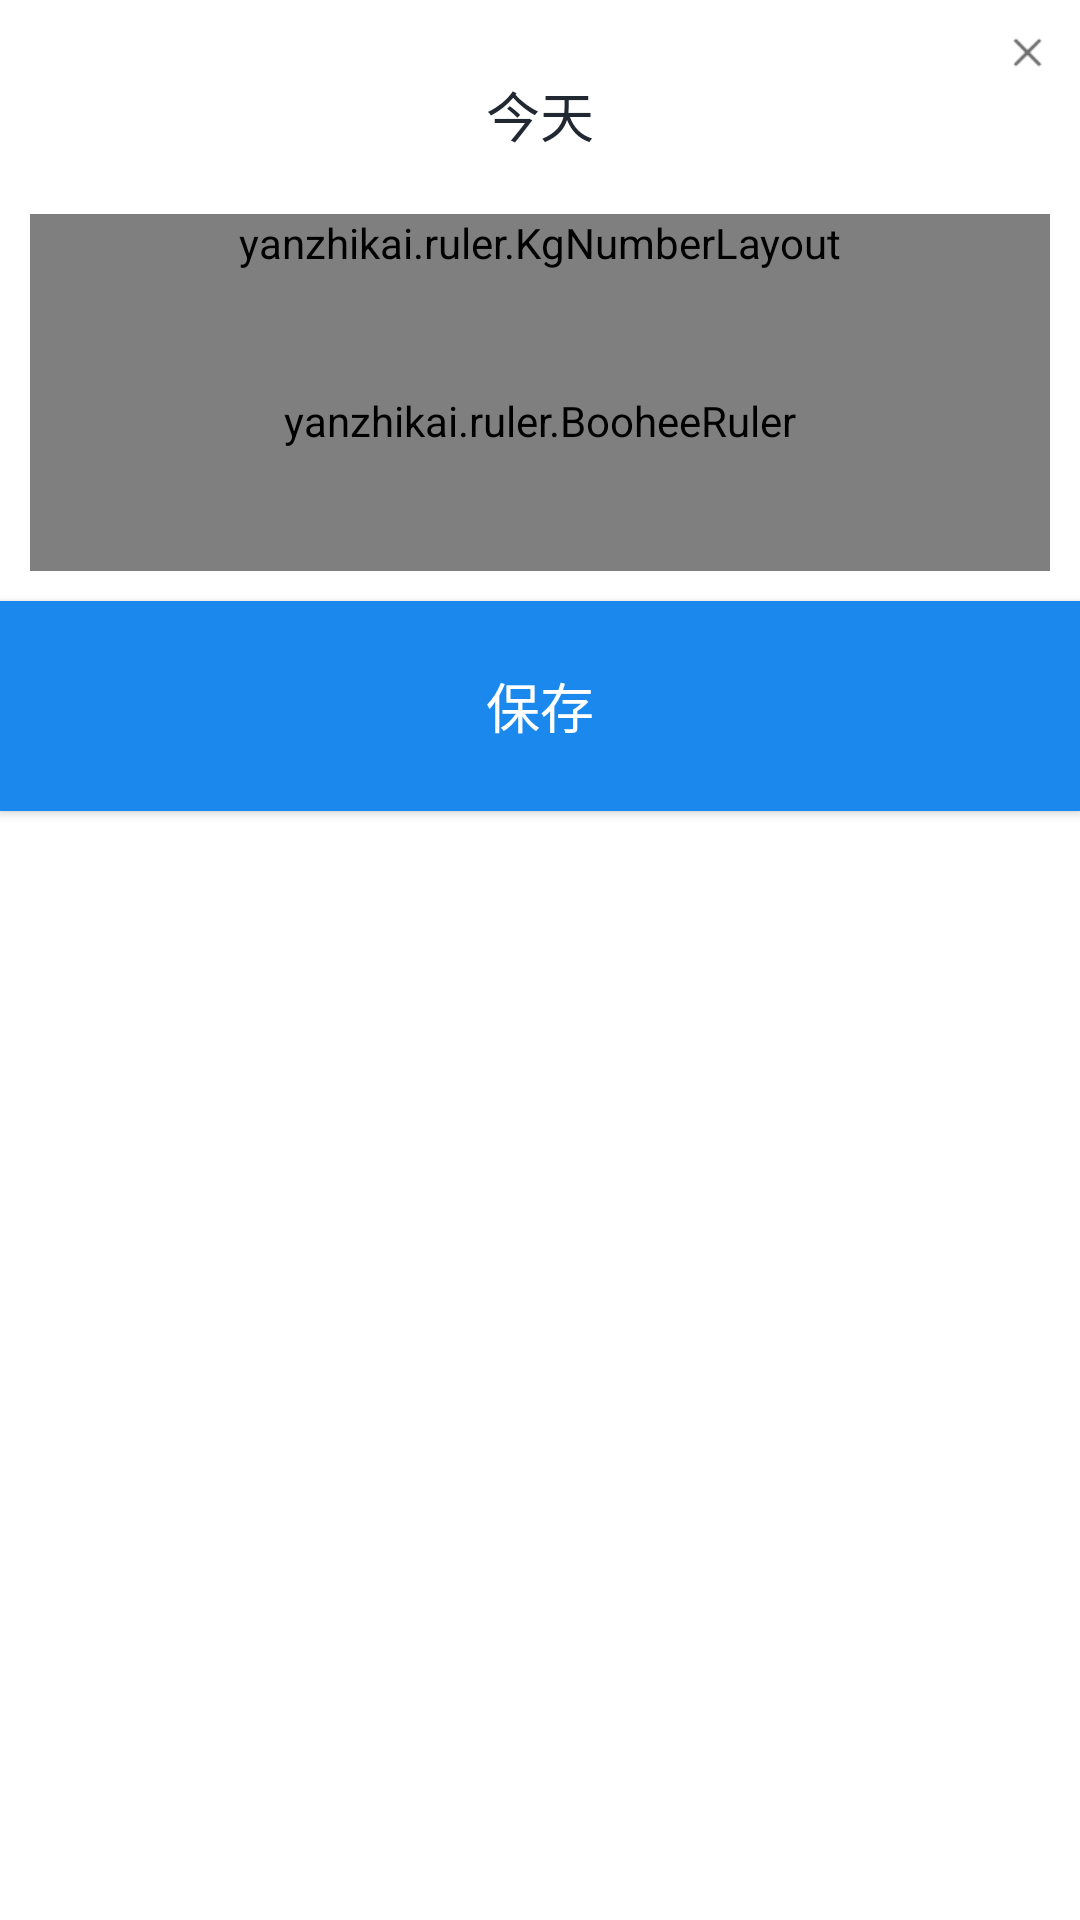

Icons on this 1080×1920 Android screen, each with its box as [x1,y1,x2,y2]:
popwindow dismess: [1013,38,1042,67]
